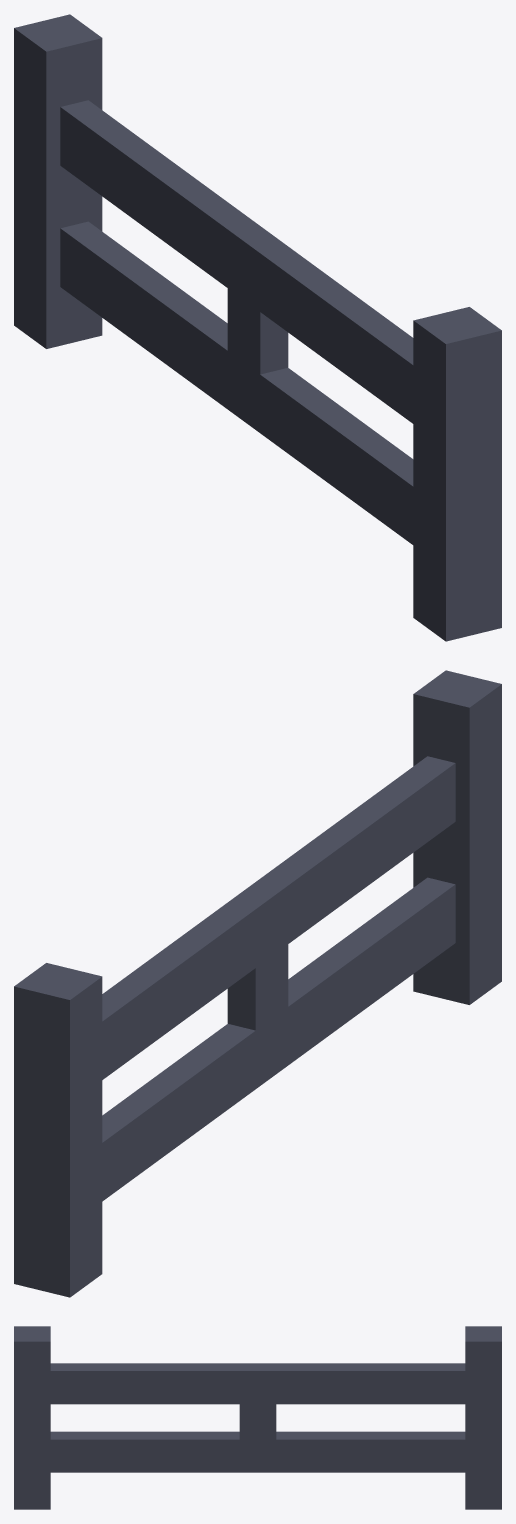
The model's file is fence.glb.
The picture shows the model from 3 angles, top to bottom: view 1: azimuth 30°, elevation 25°; view 2: azimuth 150°, elevation 25°; view 3: azimuth 270°, elevation 25°; orthographic projection. The views are drawn at different scales.
Parts seen in each view (by area): view 1: fence; view 2: fence; view 3: fence.
Boxes of the visible parts, x1,y1,x2,y2 form: fence: [14, 14, 501, 641]; fence: [14, 670, 501, 1297]; fence: [14, 1326, 501, 1509].
Size of the model in its own units: 0.075 by 0.38 by 1.
Materials: 1 (1 with a texture image).
